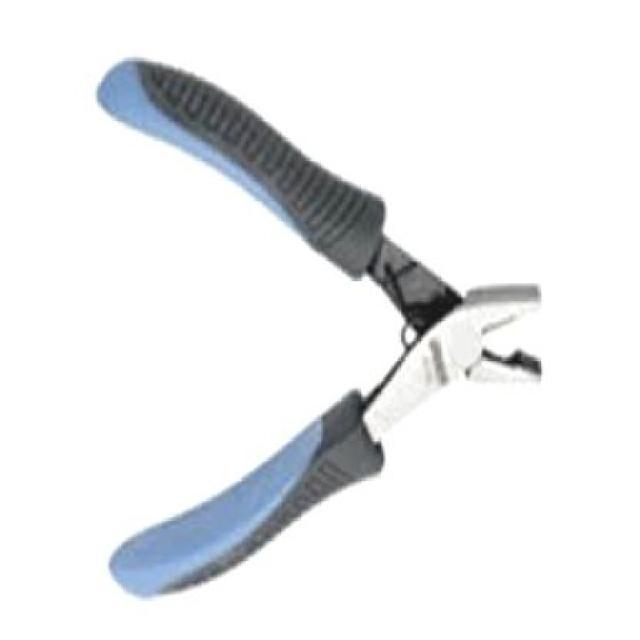pliers: (76, 46, 570, 603)
